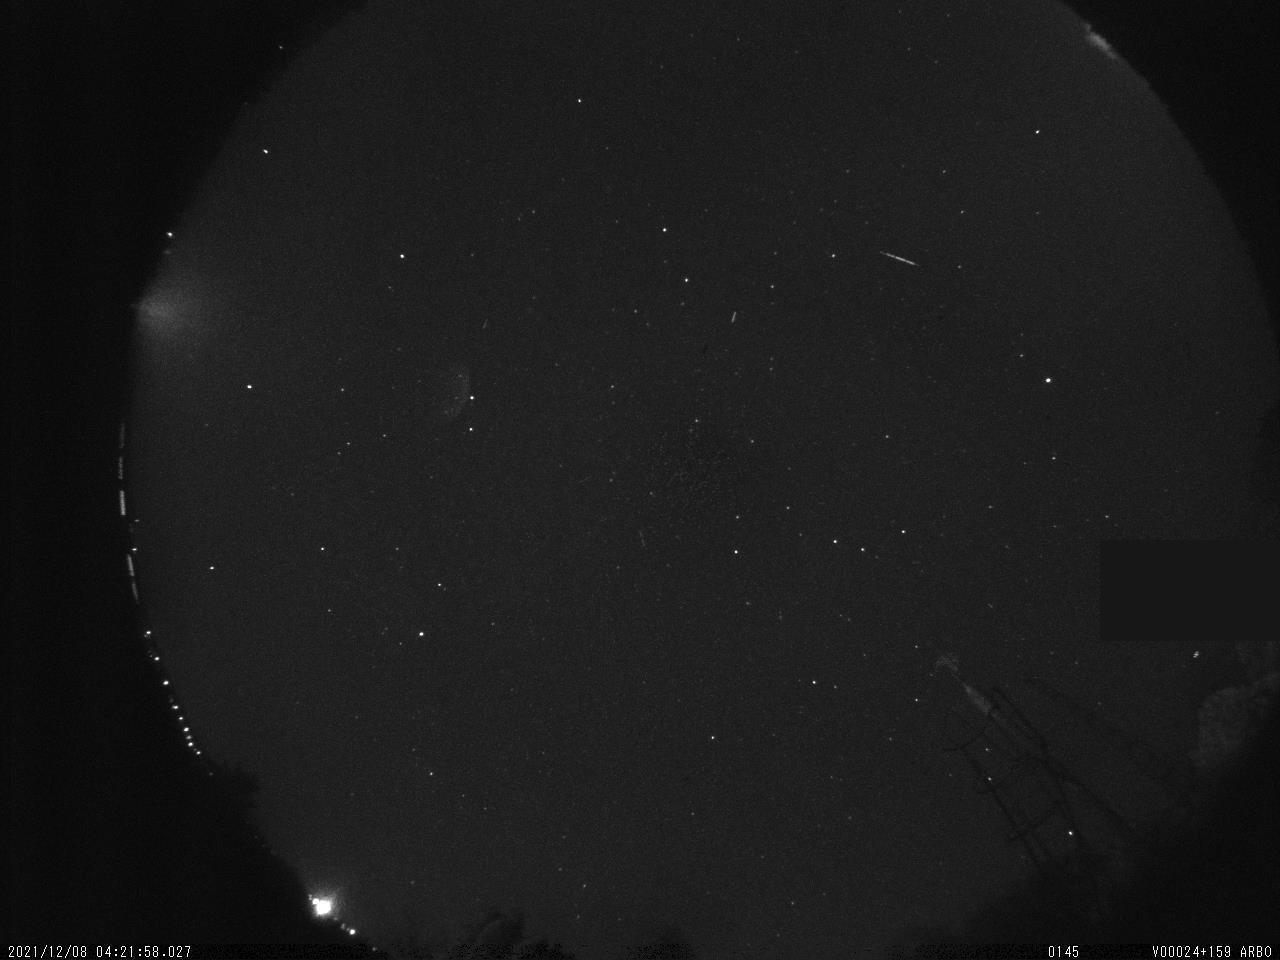Meteor: (876, 244, 925, 274)
